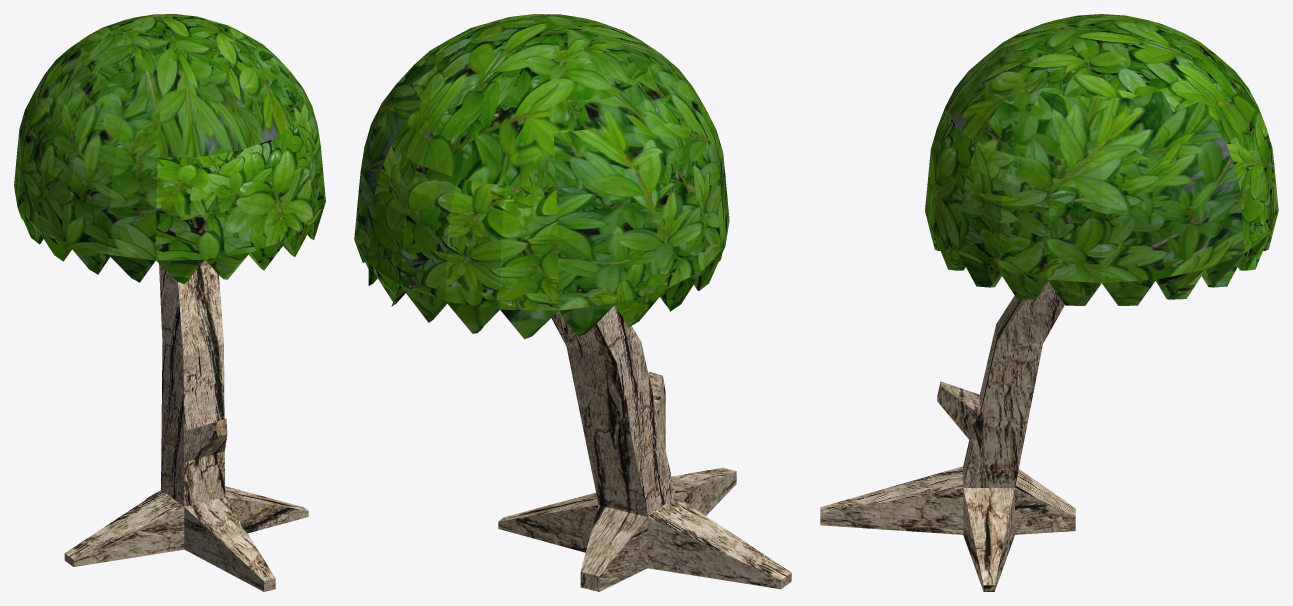
Rendered from tree.fbx.
The picture shows the model from 3 angles, left to right: view 1: azimuth 30°, elevation 25°; view 2: azimuth 150°, elevation 25°; view 3: azimuth 270°, elevation 25°; orthographic projection. The views are drawn at different scales.
Visible parts, largest first — view 1: pSphere1, pCube1; view 2: pSphere1, pCube1; view 3: pSphere1, pCube1.
Boxes of the visible parts, x1,y1,x2,y2 form: pSphere1: [14, 14, 325, 284]; pCube1: [64, 260, 308, 591]; pSphere1: [354, 14, 729, 339]; pCube1: [498, 306, 791, 591]; pSphere1: [925, 14, 1278, 305]; pCube1: [820, 281, 1075, 591].
Bounding box in the file's own units: 7.03 × 10.99 × 8.86.
2 materials, 2 textured.
